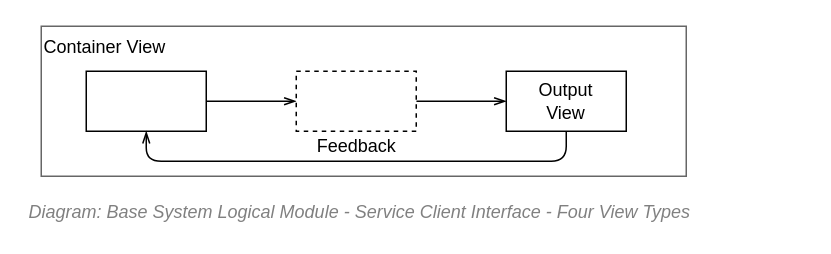
Some shapes in this 831 by 254 pixel diagram are drawn without their labels. Here are the shapes that lost their labels. From the top down, the centre of each, then its label:
point 145,100: Input View
point 355,100: Operate
